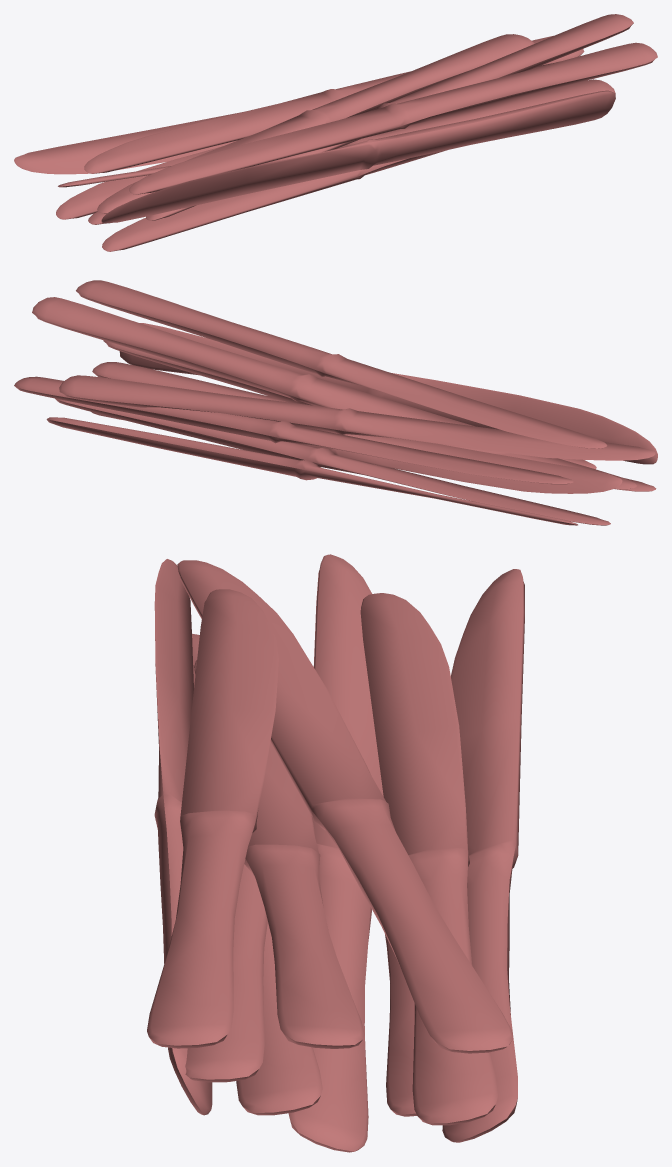
Rendered from SM_SilverwarePile_01a.FBX.
The picture shows the model from 3 angles, top to bottom: view 1: azimuth 30°, elevation 25°; view 2: azimuth 150°, elevation 25°; view 3: azimuth 270°, elevation 25°; orthographic projection. The views are drawn at different scales.
Visible parts, largest first — view 1: SM_SilverwarePile_01a_LOD0; view 2: SM_SilverwarePile_01a_LOD0; view 3: SM_SilverwarePile_01a_LOD0.
Part boxes in pixels (x1,y1,x2,y2): SM_SilverwarePile_01a_LOD0: [14, 14, 657, 251]; SM_SilverwarePile_01a_LOD0: [14, 280, 657, 525]; SM_SilverwarePile_01a_LOD0: [147, 554, 524, 1152].
Size of what is drawn, in the model's own units: 25.59 by 3.72 by 7.38.
